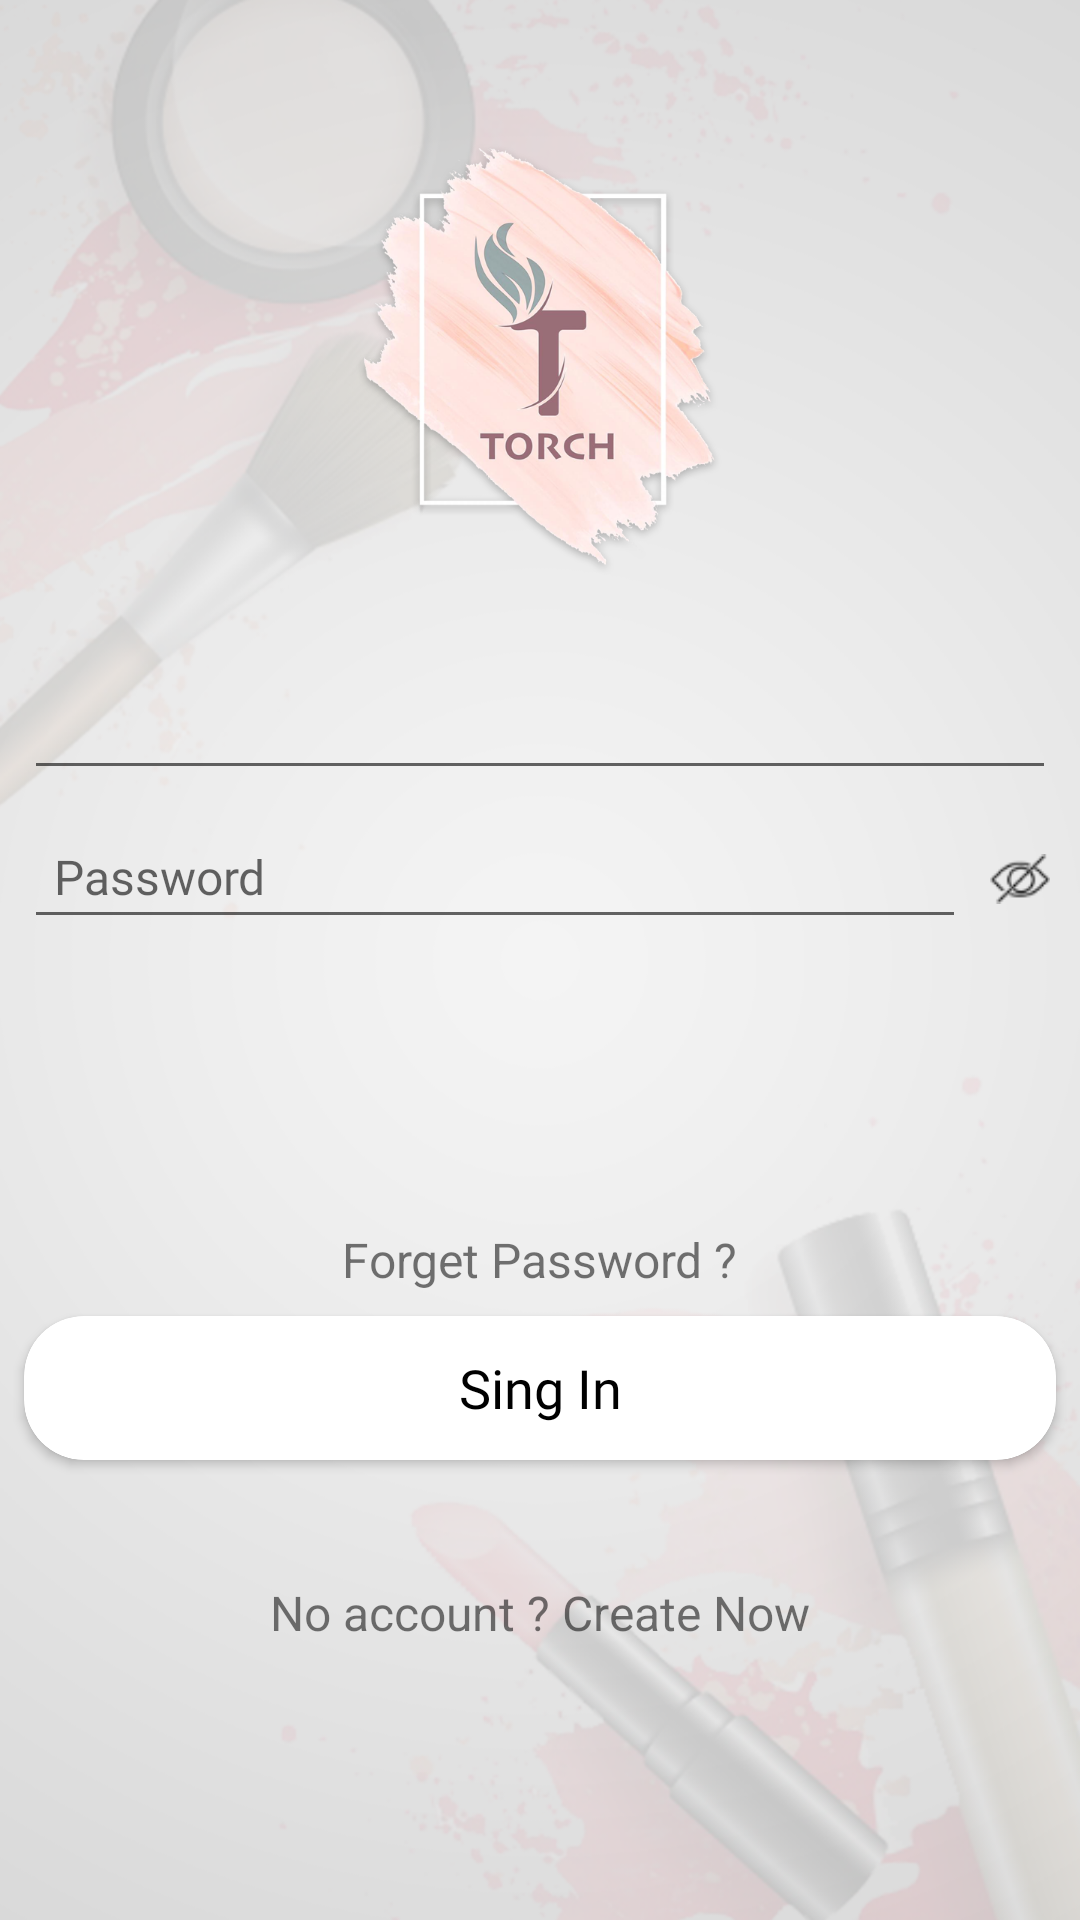

Icons on this 1080 x 1920 Android screen, each with its box as {"x1": x1, "y1": y1, "x2": x2, "y2": y2}:
hidecopy: {"x1": 990, "y1": 854, "x2": 1050, "y2": 904}
